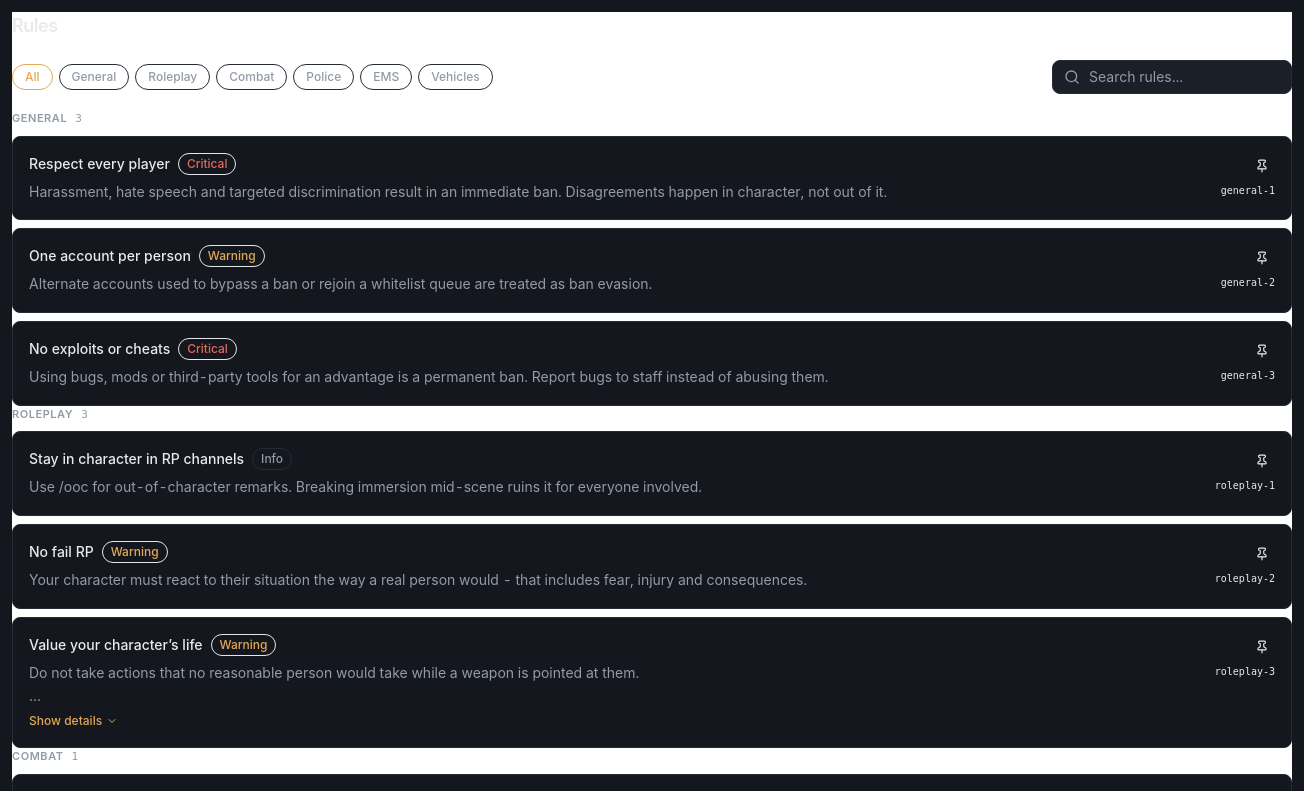
RulesPage › collapses long descriptions behind a details toggle
Click the button "Show details" at coordinates (74, 721), box [29,713,118,729]
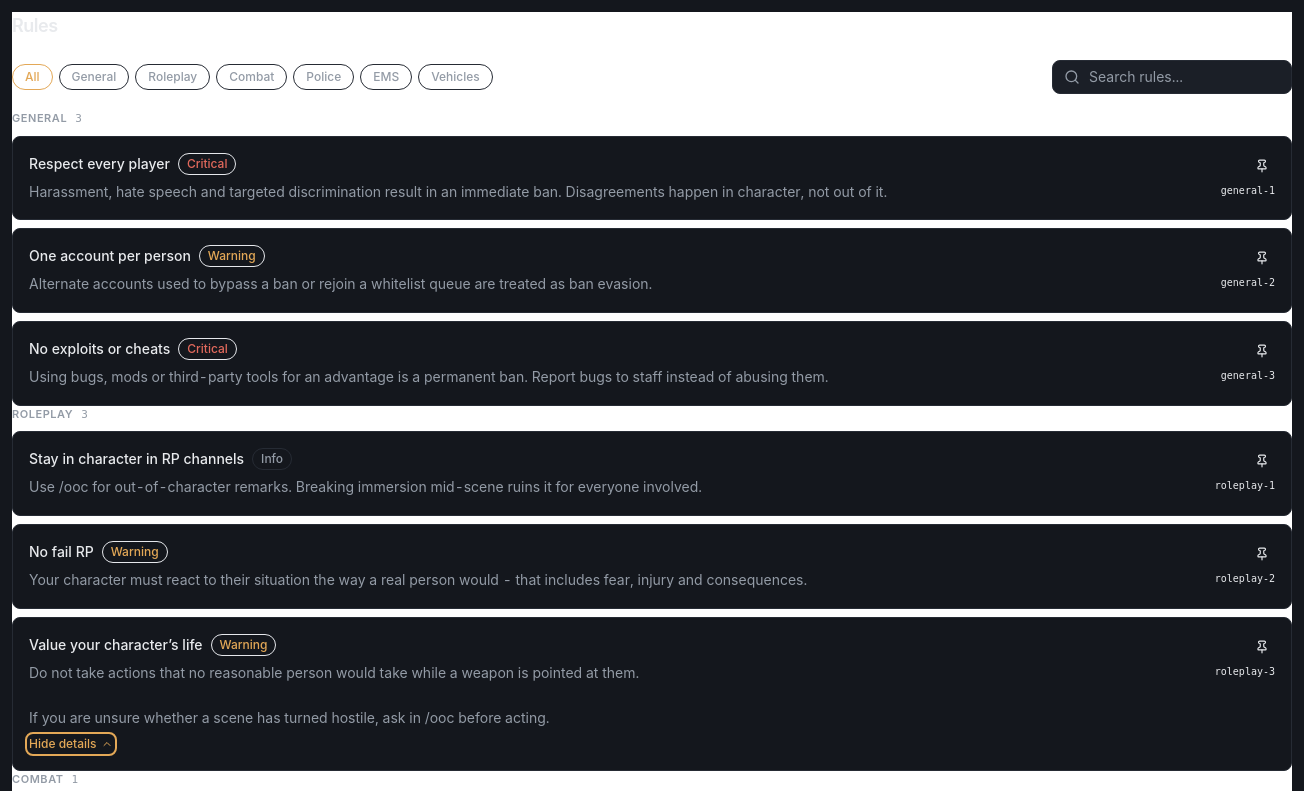
Result: the button named "Show details" is expanded at [29,736,113,752]
